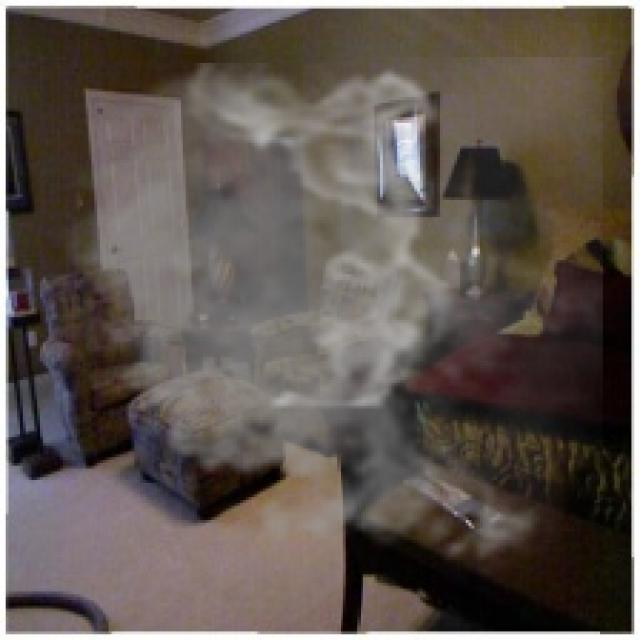smoke: (43, 57, 603, 577)
